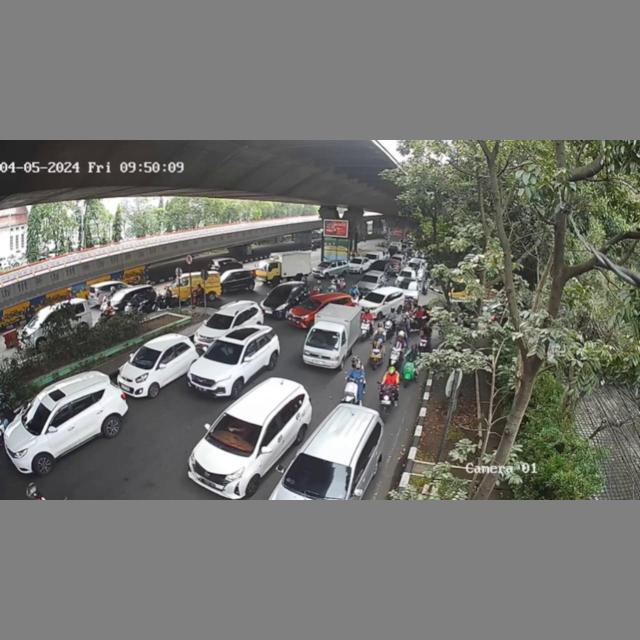windshield: (283, 454, 352, 500), (208, 412, 262, 456), (208, 339, 241, 364), (306, 329, 339, 351), (131, 345, 157, 368), (204, 312, 231, 329)
